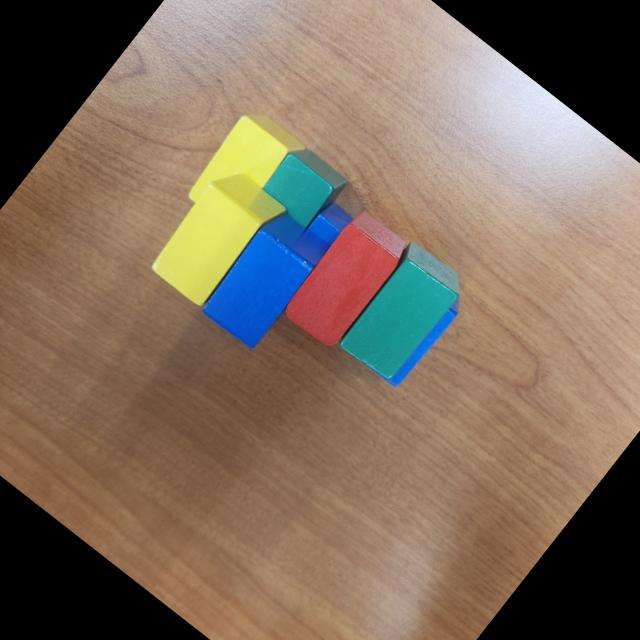blue: (195, 205, 333, 354), (355, 268, 469, 393), (303, 196, 359, 254)
green: (331, 238, 469, 386), (256, 139, 350, 234)
red: (279, 207, 412, 351)
yellow: (143, 159, 290, 315), (180, 103, 307, 237)
